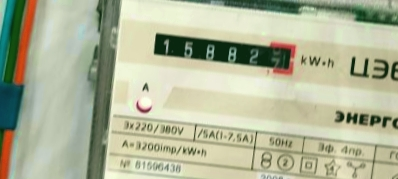1: (159, 35, 172, 54)
2: (247, 45, 260, 65)
5: (181, 39, 194, 58)
7: (269, 55, 281, 68)
8: (202, 41, 216, 60), (225, 43, 238, 63)
screen: (143, 20, 302, 82)
